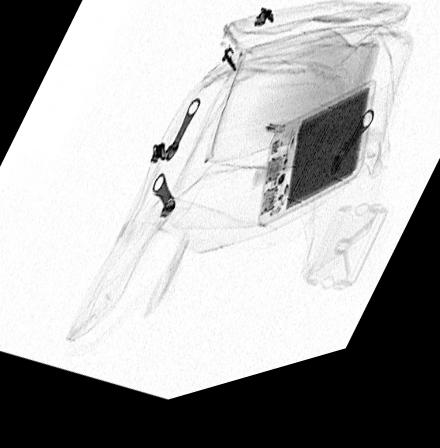Powerbank: (257, 100, 377, 242)
